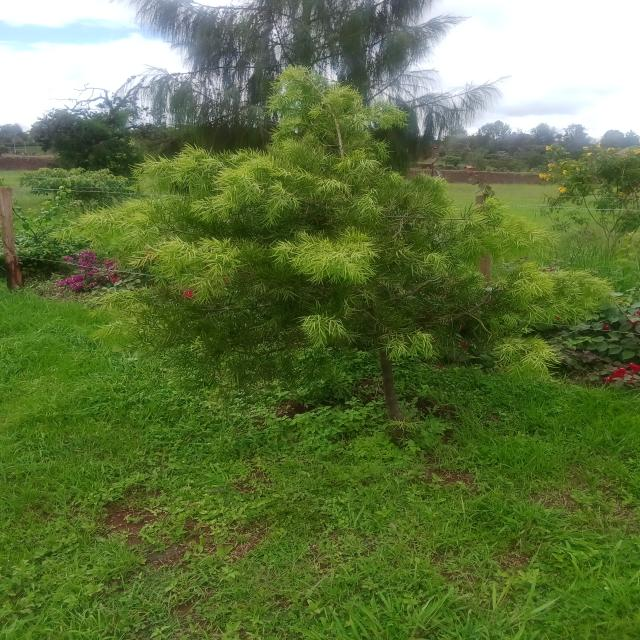Podocarpus falcatus: (89, 70, 621, 450)
